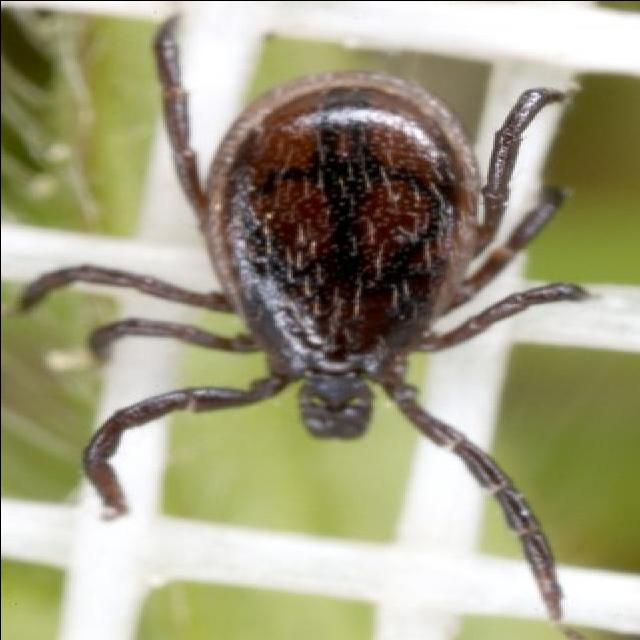Ixodes Ricinus-M: (18, 14, 592, 620)
